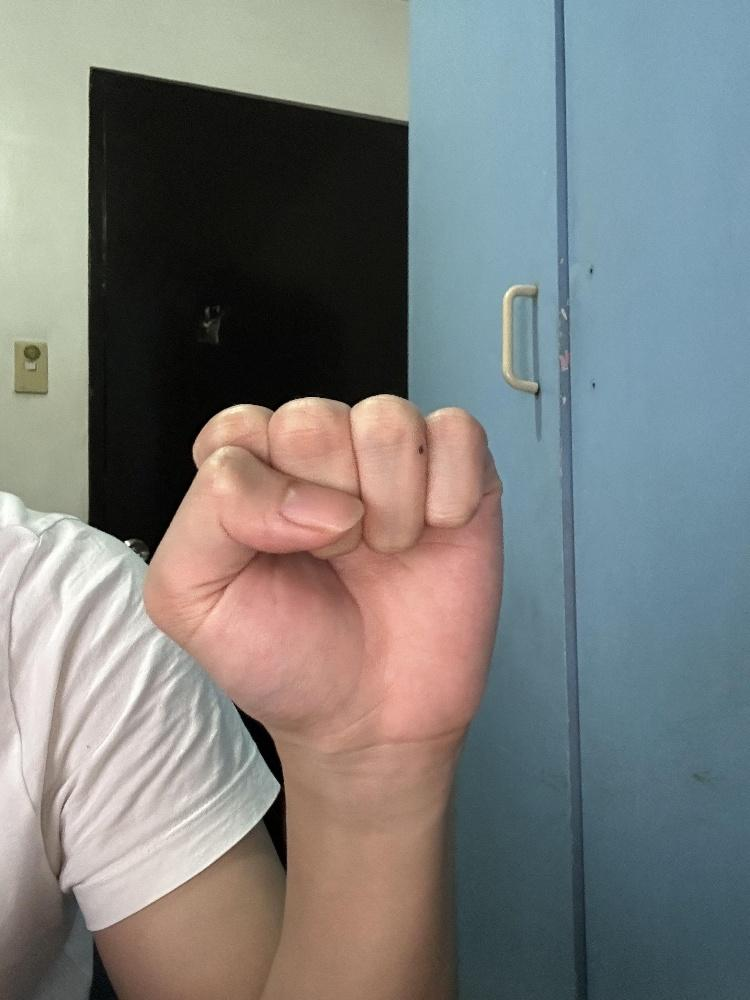s: (136, 391, 509, 755)
